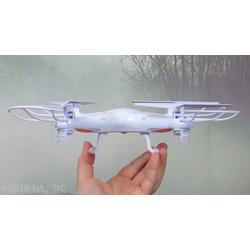drone: (5, 98, 240, 152)
